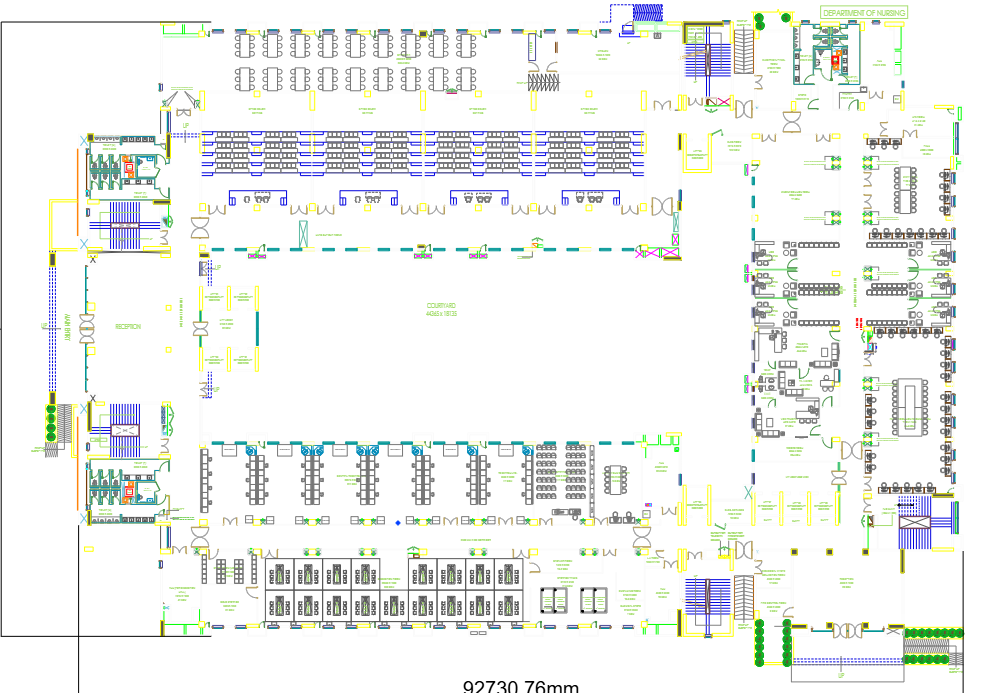door: (841, 440, 862, 459), (652, 197, 673, 216), (783, 111, 801, 133), (633, 526, 651, 547), (191, 217, 209, 238), (735, 99, 753, 119), (191, 527, 209, 546), (736, 541, 752, 559), (193, 321, 208, 336), (848, 623, 862, 639), (833, 623, 847, 639), (831, 471, 847, 485), (621, 204, 639, 215), (317, 204, 335, 215), (290, 204, 308, 215), (208, 204, 226, 215), (80, 314, 94, 328), (80, 329, 94, 343), (428, 204, 445, 215), (401, 204, 418, 215), (653, 100, 671, 110), (511, 204, 529, 214), (538, 205, 556, 215), (261, 549, 278, 558), (816, 133, 831, 143), (513, 550, 529, 559), (754, 74, 763, 90), (687, 97, 703, 106), (820, 68, 832, 80), (863, 194, 872, 209), (761, 133, 776, 142), (176, 108, 191, 117), (160, 438, 169, 453), (246, 587, 258, 598), (688, 551, 702, 560), (863, 172, 872, 186), (821, 438, 832, 449), (787, 299, 798, 310), (808, 98, 819, 109), (546, 61, 557, 72), (622, 21, 633, 32), (443, 517, 458, 525), (498, 517, 513, 525), (880, 122, 888, 137), (160, 230, 168, 245), (199, 382, 207, 397), (528, 62, 540, 72), (199, 261, 207, 276), (662, 507, 676, 515), (664, 560, 678, 568), (864, 476, 872, 490), (864, 499, 872, 513), (903, 130, 917, 138), (869, 91, 883, 99), (209, 549, 219, 560), (783, 606, 793, 617), (908, 271, 919, 281), (810, 425, 821, 435), (822, 396, 832, 407), (829, 331, 840, 341), (799, 368, 809, 379), (848, 99, 858, 110), (755, 560, 762, 575), (173, 546, 186, 554), (539, 518, 552, 526), (787, 271, 797, 281), (804, 74, 814, 84), (156, 154, 166, 164), (529, 563, 540, 572), (838, 75, 849, 84), (159, 187, 168, 198), (157, 494, 166, 505), (223, 518, 237, 525), (595, 518, 608, 525), (603, 549, 616, 556), (864, 353, 871, 366), (908, 258, 918, 267), (908, 300, 918, 309), (787, 258, 797, 267), (159, 461, 168, 471), (111, 180, 119, 190), (768, 399, 776, 408), (91, 154, 99, 163), (101, 181, 109, 190), (91, 469, 99, 478), (112, 496, 120, 505), (655, 550, 664, 558), (768, 361, 776, 369), (91, 181, 99, 189), (91, 496, 99, 504), (839, 28, 848, 35), (102, 154, 109, 163), (102, 469, 109, 478), (102, 496, 109, 505), (258, 441, 265, 449), (424, 441, 431, 449), (480, 441, 487, 449), (840, 39, 848, 46), (814, 39, 822, 46), (314, 30, 321, 38), (113, 470, 120, 478), (113, 155, 120, 162), (424, 244, 431, 251), (947, 487, 955, 493), (751, 165, 759, 171), (814, 29, 822, 35), (591, 30, 597, 38), (481, 30, 487, 38), (259, 30, 265, 38), (259, 621, 265, 628), (315, 621, 321, 628), (370, 621, 376, 628), (425, 621, 431, 628), (536, 621, 542, 628), (591, 621, 597, 628), (158, 509, 165, 515), (370, 30, 376, 37), (259, 244, 265, 251), (480, 244, 486, 251), (537, 30, 542, 38), (205, 621, 210, 628), (948, 109, 954, 114), (427, 30, 432, 36), (205, 31, 210, 37), (636, 245, 641, 251), (161, 144, 165, 149)
